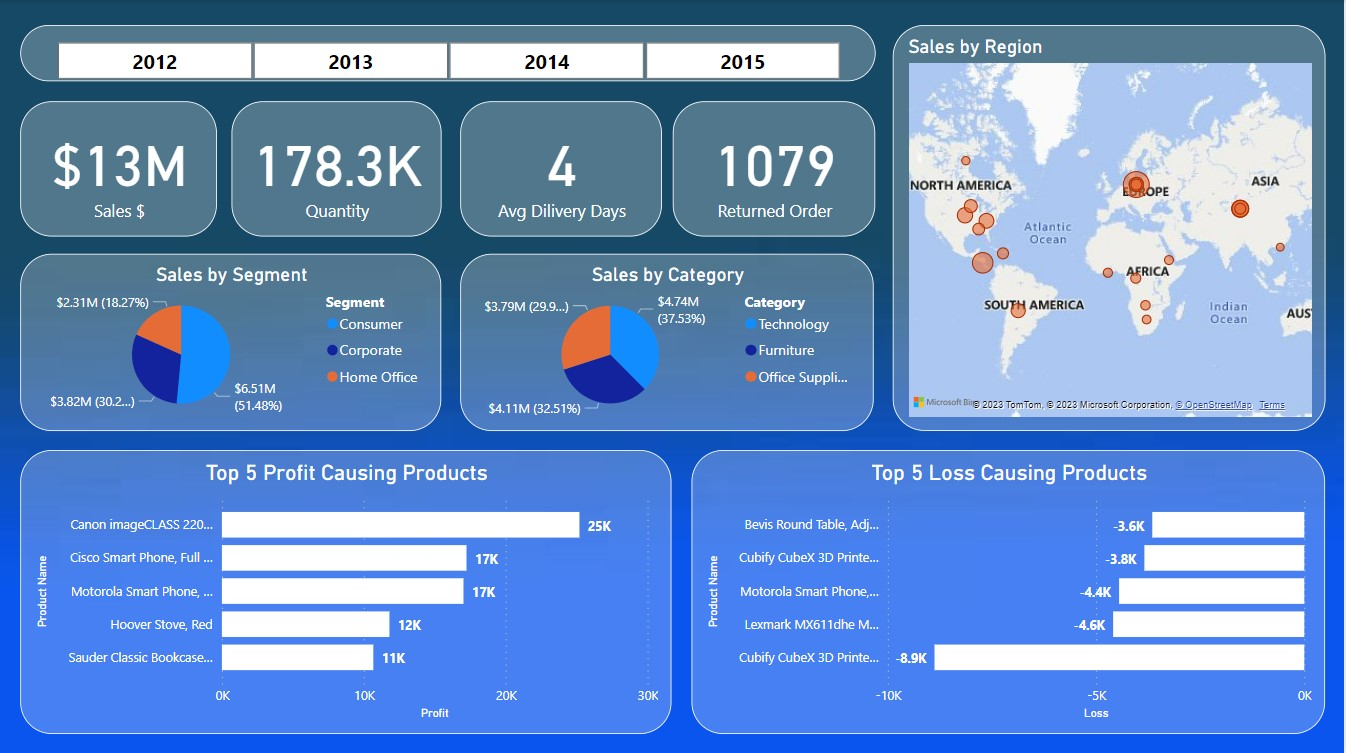

Layout of this report page (visuals, bound fields, positions):
{"tool":"powerbi","page":{"name":"Page 1","canvas":[1280,720],"ordinal":0},"visuals":[{"type":"slicer","title":"Year","fields":{"Values":["Orders.Year"]},"box":[20.2,23.8,814,53.6],"z":0},{"type":"card","fields":{"Values":["Sum(Orders.Sales)"]},"box":[20.2,96.4,186.8,128.5],"z":0,"group":"g1"},{"type":"card","fields":{"Values":["Sum(Orders.Quantity)"]},"box":[221.4,96.4,199.9,128.5],"z":0,"group":"g2"},{"type":"card","fields":{"Values":["Avg(Orders.Dilivery Days)"]},"box":[439.1,96.4,191.6,128.5],"z":0,"group":"g3"},{"type":"card","fields":{"Values":["Sum(Returns.Return Order)"]},"box":[641.5,96.4,192.8,128.5],"z":0,"group":"g4"},{"type":"group","id":"g1","title":"Group 1","box":[20.2,96.4,186.8,128.5],"z":1000},{"type":"map","title":"Sales by Region","fields":{"Category":["Orders.Region"],"Size":["Sum(Orders.Sales)"]},"box":[850.9,23.8,411.8,386.8],"z":2000},{"type":"barChart","title":"Top 5 Profit Causing Products","fields":{"Category":["Orders.Product Name"],"Y":["Sum(Orders.Profit)"]},"box":[20.2,428.4,620,270.1],"z":3000},{"type":"barChart","title":"Top 5 Loss Causing Products","fields":{"Category":["Orders.Product Name"],"Y":["Sum(Orders.Profit)"]},"box":[659.3,428.4,603.4,270.1],"z":4000},{"type":"pieChart","title":"Sales by Segment","fields":{"Category":["Orders.Segment"],"Y":["Sum(Orders.Sales)"]},"box":[20.2,241.6,401.1,169],"z":5000},{"type":"pieChart","title":"Sales by Category","fields":{"Category":["Orders.Category"],"Y":["Sum(Orders.Sales)"]},"box":[439.1,241.6,393.9,169],"z":6000},{"type":"group","id":"g2","title":"Group 1","box":[221.4,96.4,199.9,128.5],"z":7000},{"type":"group","id":"g3","title":"Group 1","box":[439.1,96.4,191.6,128.5],"z":8000},{"type":"group","id":"g4","title":"Group 1","box":[641.5,96.4,192.8,128.5],"z":9000}]}

Visuals, with their boxes in screenshot pixels (x1, y1, x2, y2), scaled from the page's 1280x720 canvas onto the 1346x753 screenshot:
"Year" slicer: region(21, 25, 877, 81)
card - Sum(Orders.Sales): region(21, 101, 218, 235)
card - Sum(Orders.Quantity): region(233, 101, 443, 235)
card - Avg(Orders.Dilivery Days): region(462, 101, 663, 235)
card - Sum(Returns.Return Order): region(675, 101, 877, 235)
"Group 1" group: region(21, 101, 218, 235)
"Sales by Region" map: region(895, 25, 1328, 429)
"Top 5 Profit Causing Products" barChart: region(21, 448, 673, 731)
"Top 5 Loss Causing Products" barChart: region(693, 448, 1328, 731)
"Sales by Segment" pieChart: region(21, 253, 443, 429)
"Sales by Category" pieChart: region(462, 253, 876, 429)
"Group 1" group: region(233, 101, 443, 235)
"Group 1" group: region(462, 101, 663, 235)
"Group 1" group: region(675, 101, 877, 235)
